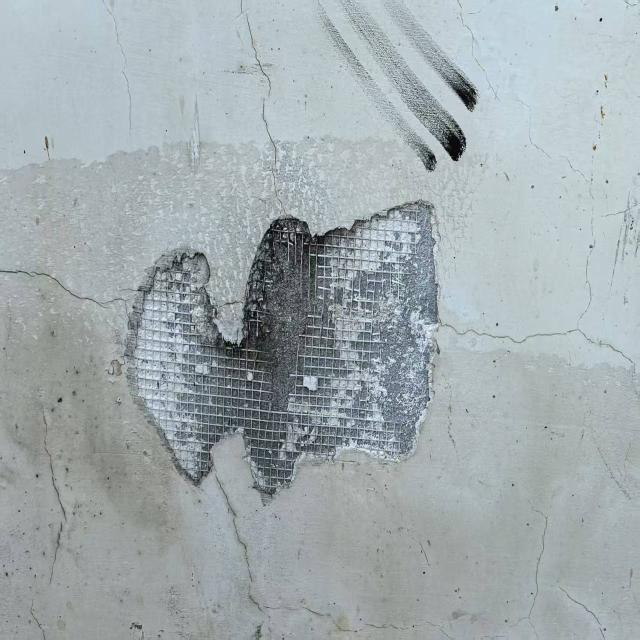crack: (438, 4, 637, 382), (207, 463, 461, 636), (234, 3, 289, 210), (23, 393, 70, 635), (504, 488, 554, 636), (5, 263, 125, 317), (94, 0, 135, 149), (556, 573, 609, 633)
spalling: (104, 185, 448, 509)
